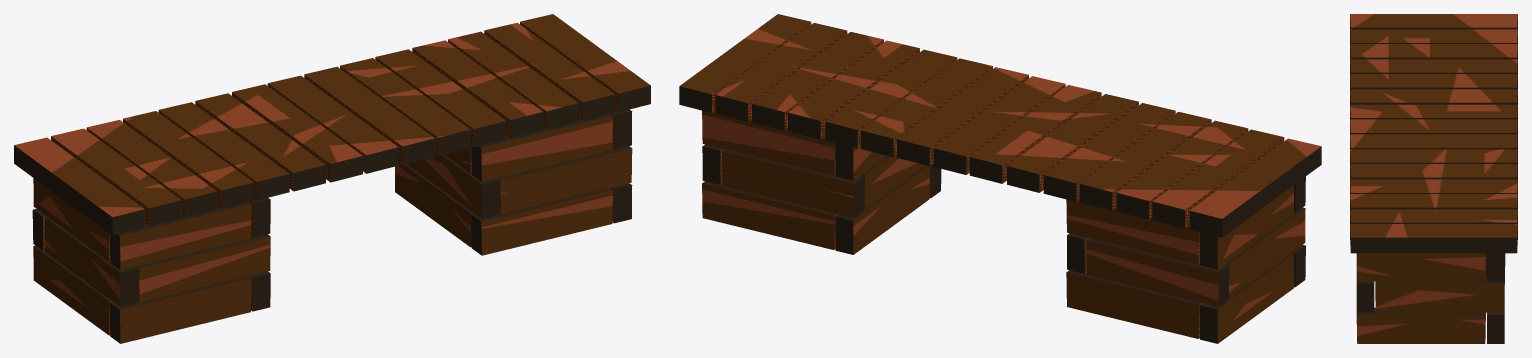
File: PRMC_MesaG.FBX
3 renders of one model, left to right at view 1: azimuth 30°, elevation 25°; view 2: azimuth 150°, elevation 25°; view 3: azimuth 270°, elevation 25°, orthographic. The views are drawn at different scales.
Parts seen in each view (by area): view 1: PRMC_MesaG; view 2: PRMC_MesaG; view 3: PRMC_MesaG.
Part boxes in pixels (x1,y1,x2,y2): PRMC_MesaG: [14, 14, 650, 343]; PRMC_MesaG: [679, 14, 1321, 343]; PRMC_MesaG: [1350, 14, 1517, 343].
Bounding box in the file's own units: 3.66 × 0.86 × 1.16.
